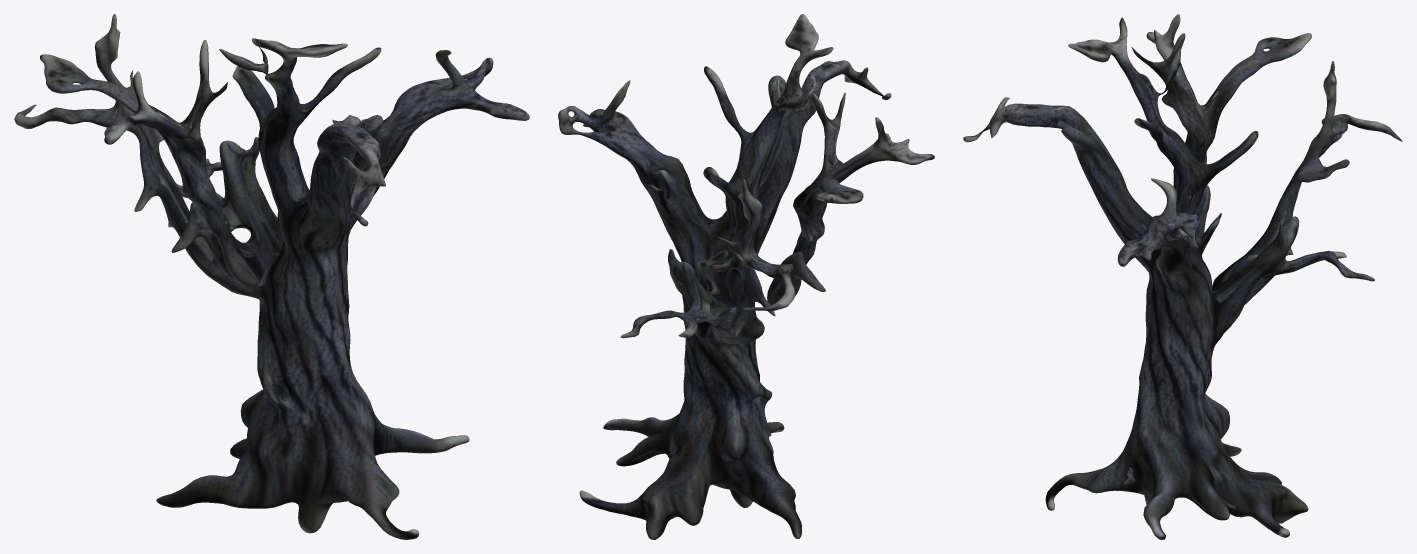
The model's file is b7a2531c50cc_fully_grey_dead_spo.fbx.
The picture shows the model from 3 angles, left to right: view 1: azimuth 30°, elevation 25°; view 2: azimuth 150°, elevation 25°; view 3: azimuth 270°, elevation 25°; orthographic projection. The views are drawn at different scales.
Parts seen in each view (by area): view 1: mesh; view 2: mesh; view 3: mesh.
Part boxes in pixels (left/top/right/bottom): mesh: left=14, top=14, right=529, bottom=539; mesh: left=558, top=14, right=934, bottom=539; mesh: left=963, top=14, right=1402, bottom=539.
Bounding box in the file's own units: 80.55 × 99.64 × 85.04.
